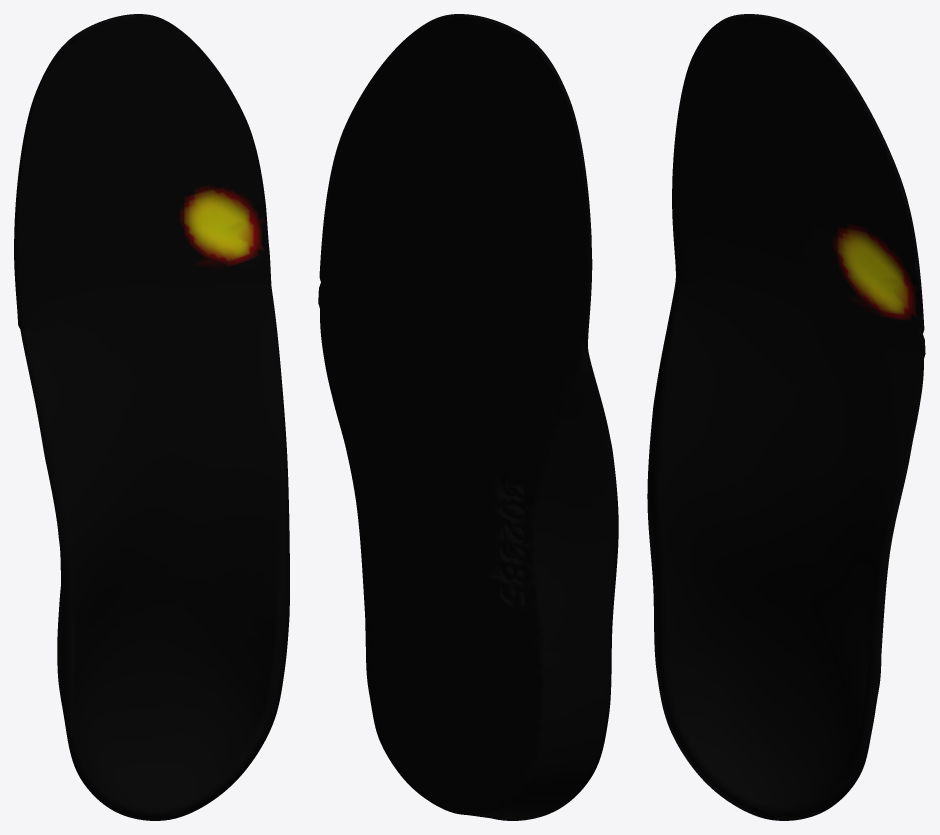
The model's file is PAIR-OFFLOAD-4TH-5TH_RIGHT.glb.
3 views of the same model, side by side, from view 1: azimuth 30°, elevation 25°; view 2: azimuth 150°, elevation 25°; view 3: azimuth 330°, elevation 25° (orthographic). The views are drawn at different scales.
Parts seen in each view (by area): view 1: geometry_0; view 2: geometry_0; view 3: geometry_0.
Part boxes in pixels (x1,y1,x2,y2): geometry_0: (14, 14, 289, 820); geometry_0: (318, 14, 618, 820); geometry_0: (647, 14, 925, 820).
Bounding box in the file's own units: 109 × 318 × 27.49.
